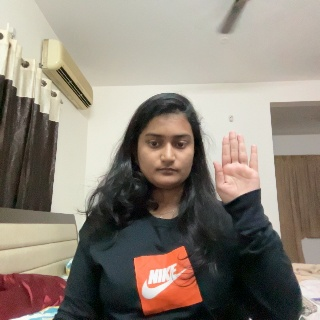Face: (133, 105, 197, 197)
Hello: (213, 131, 269, 227)
